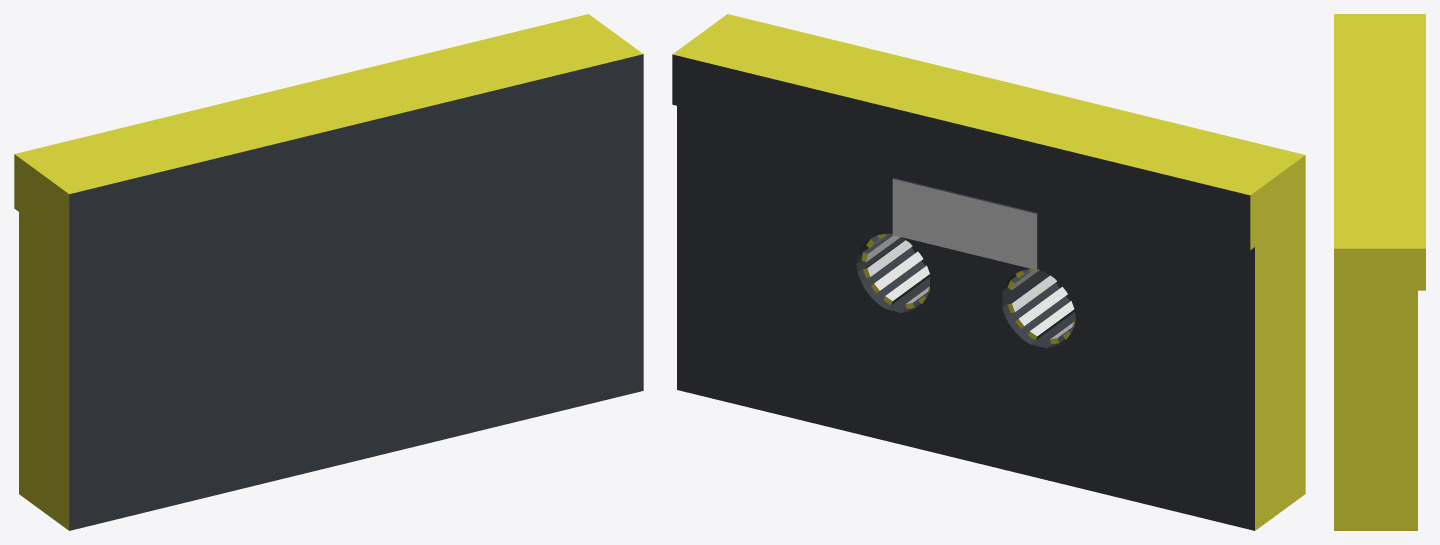
The model's file is Tape.fbx.
3 views of the same model, side by side, from view 1: azimuth 30°, elevation 25°; view 2: azimuth 150°, elevation 25°; view 3: azimuth 270°, elevation 25° (orthographic). The views are drawn at different scales.
Parts seen in each view (by area): view 1: Cube; view 2: Cube; view 3: Cube.
Boxes of the visible parts, left/top/right/bottom form: Cube: left=14, top=14, right=643, bottom=530; Cube: left=672, top=14, right=1305, bottom=530; Cube: left=1334, top=14, right=1425, bottom=530.
Size of the model in its own units: 82.87 by 46.43 by 13.71.
